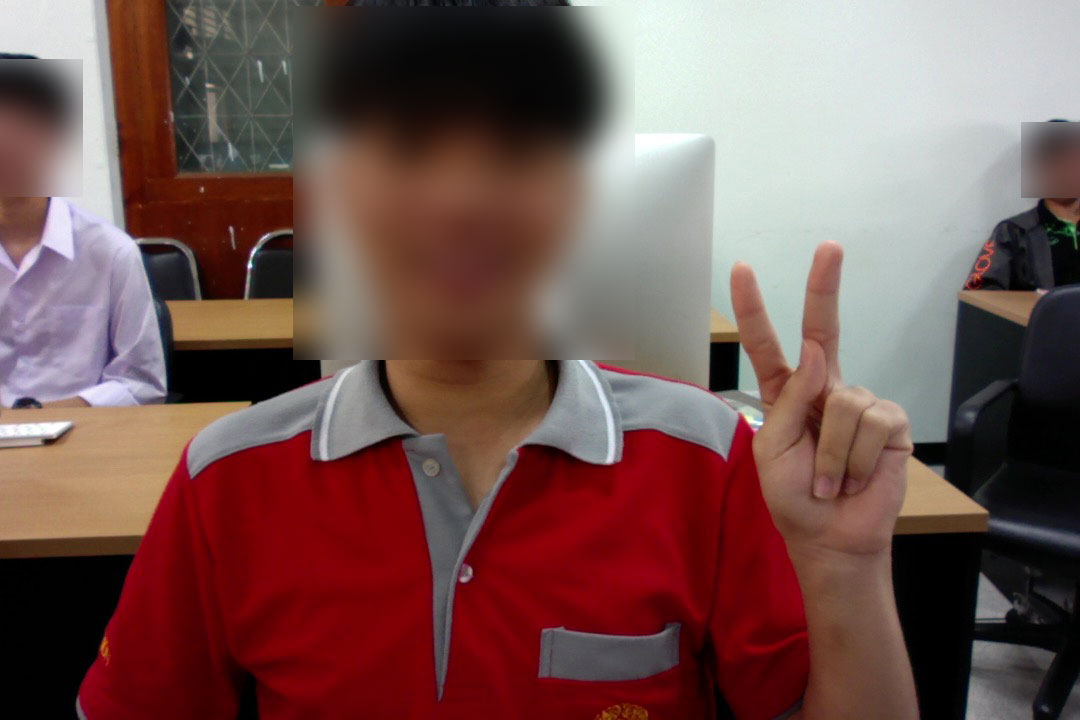ko: (710, 225, 929, 579)
